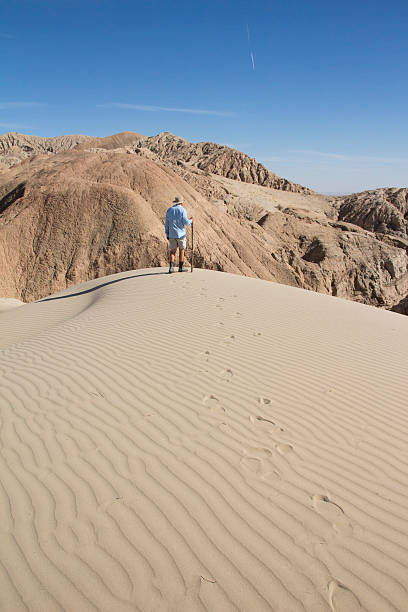human_foot_print: (250, 396, 292, 438), (249, 396, 290, 437), (312, 494, 352, 535), (240, 446, 280, 479), (328, 580, 361, 611), (249, 414, 286, 437), (202, 394, 225, 411), (249, 415, 275, 426), (275, 442, 293, 454), (195, 349, 210, 362), (218, 368, 232, 381), (221, 334, 236, 345), (258, 396, 271, 405), (215, 297, 224, 309), (199, 288, 207, 297), (232, 311, 241, 317), (252, 331, 261, 336), (216, 321, 224, 326), (217, 297, 224, 302)
